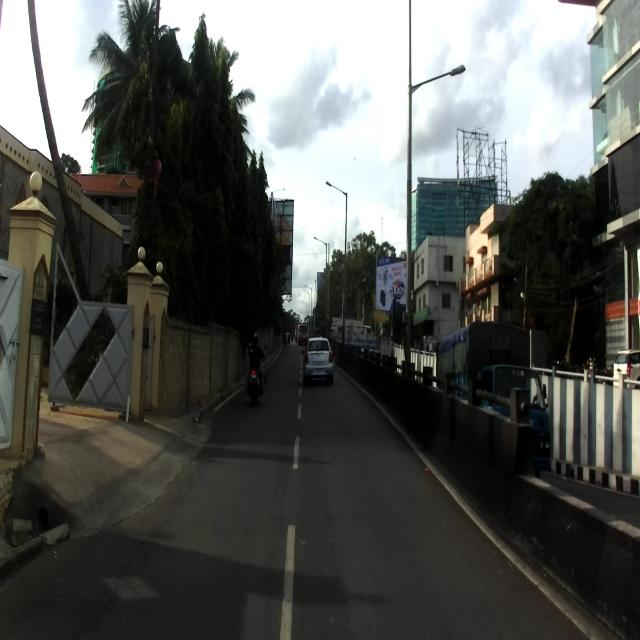Car_Toyota: (300, 336, 335, 386)
motorcycle_RoyalEnfield: (245, 340, 268, 405)
truck: (435, 318, 551, 480)
